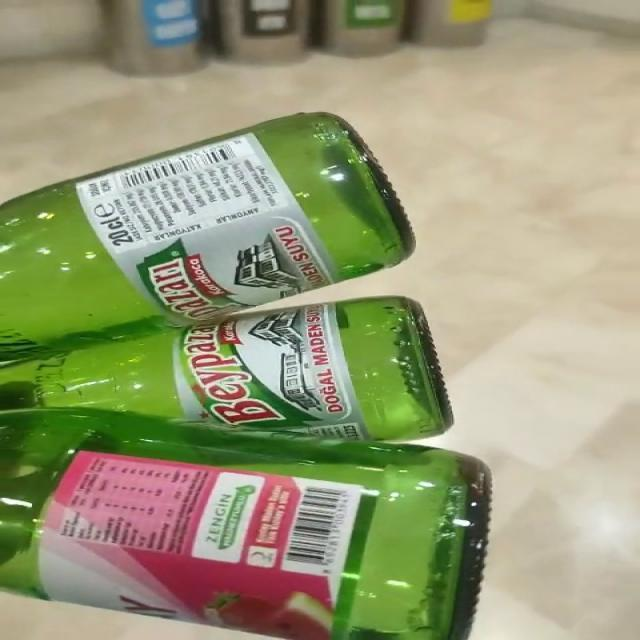Glass: (0, 112, 491, 640)
